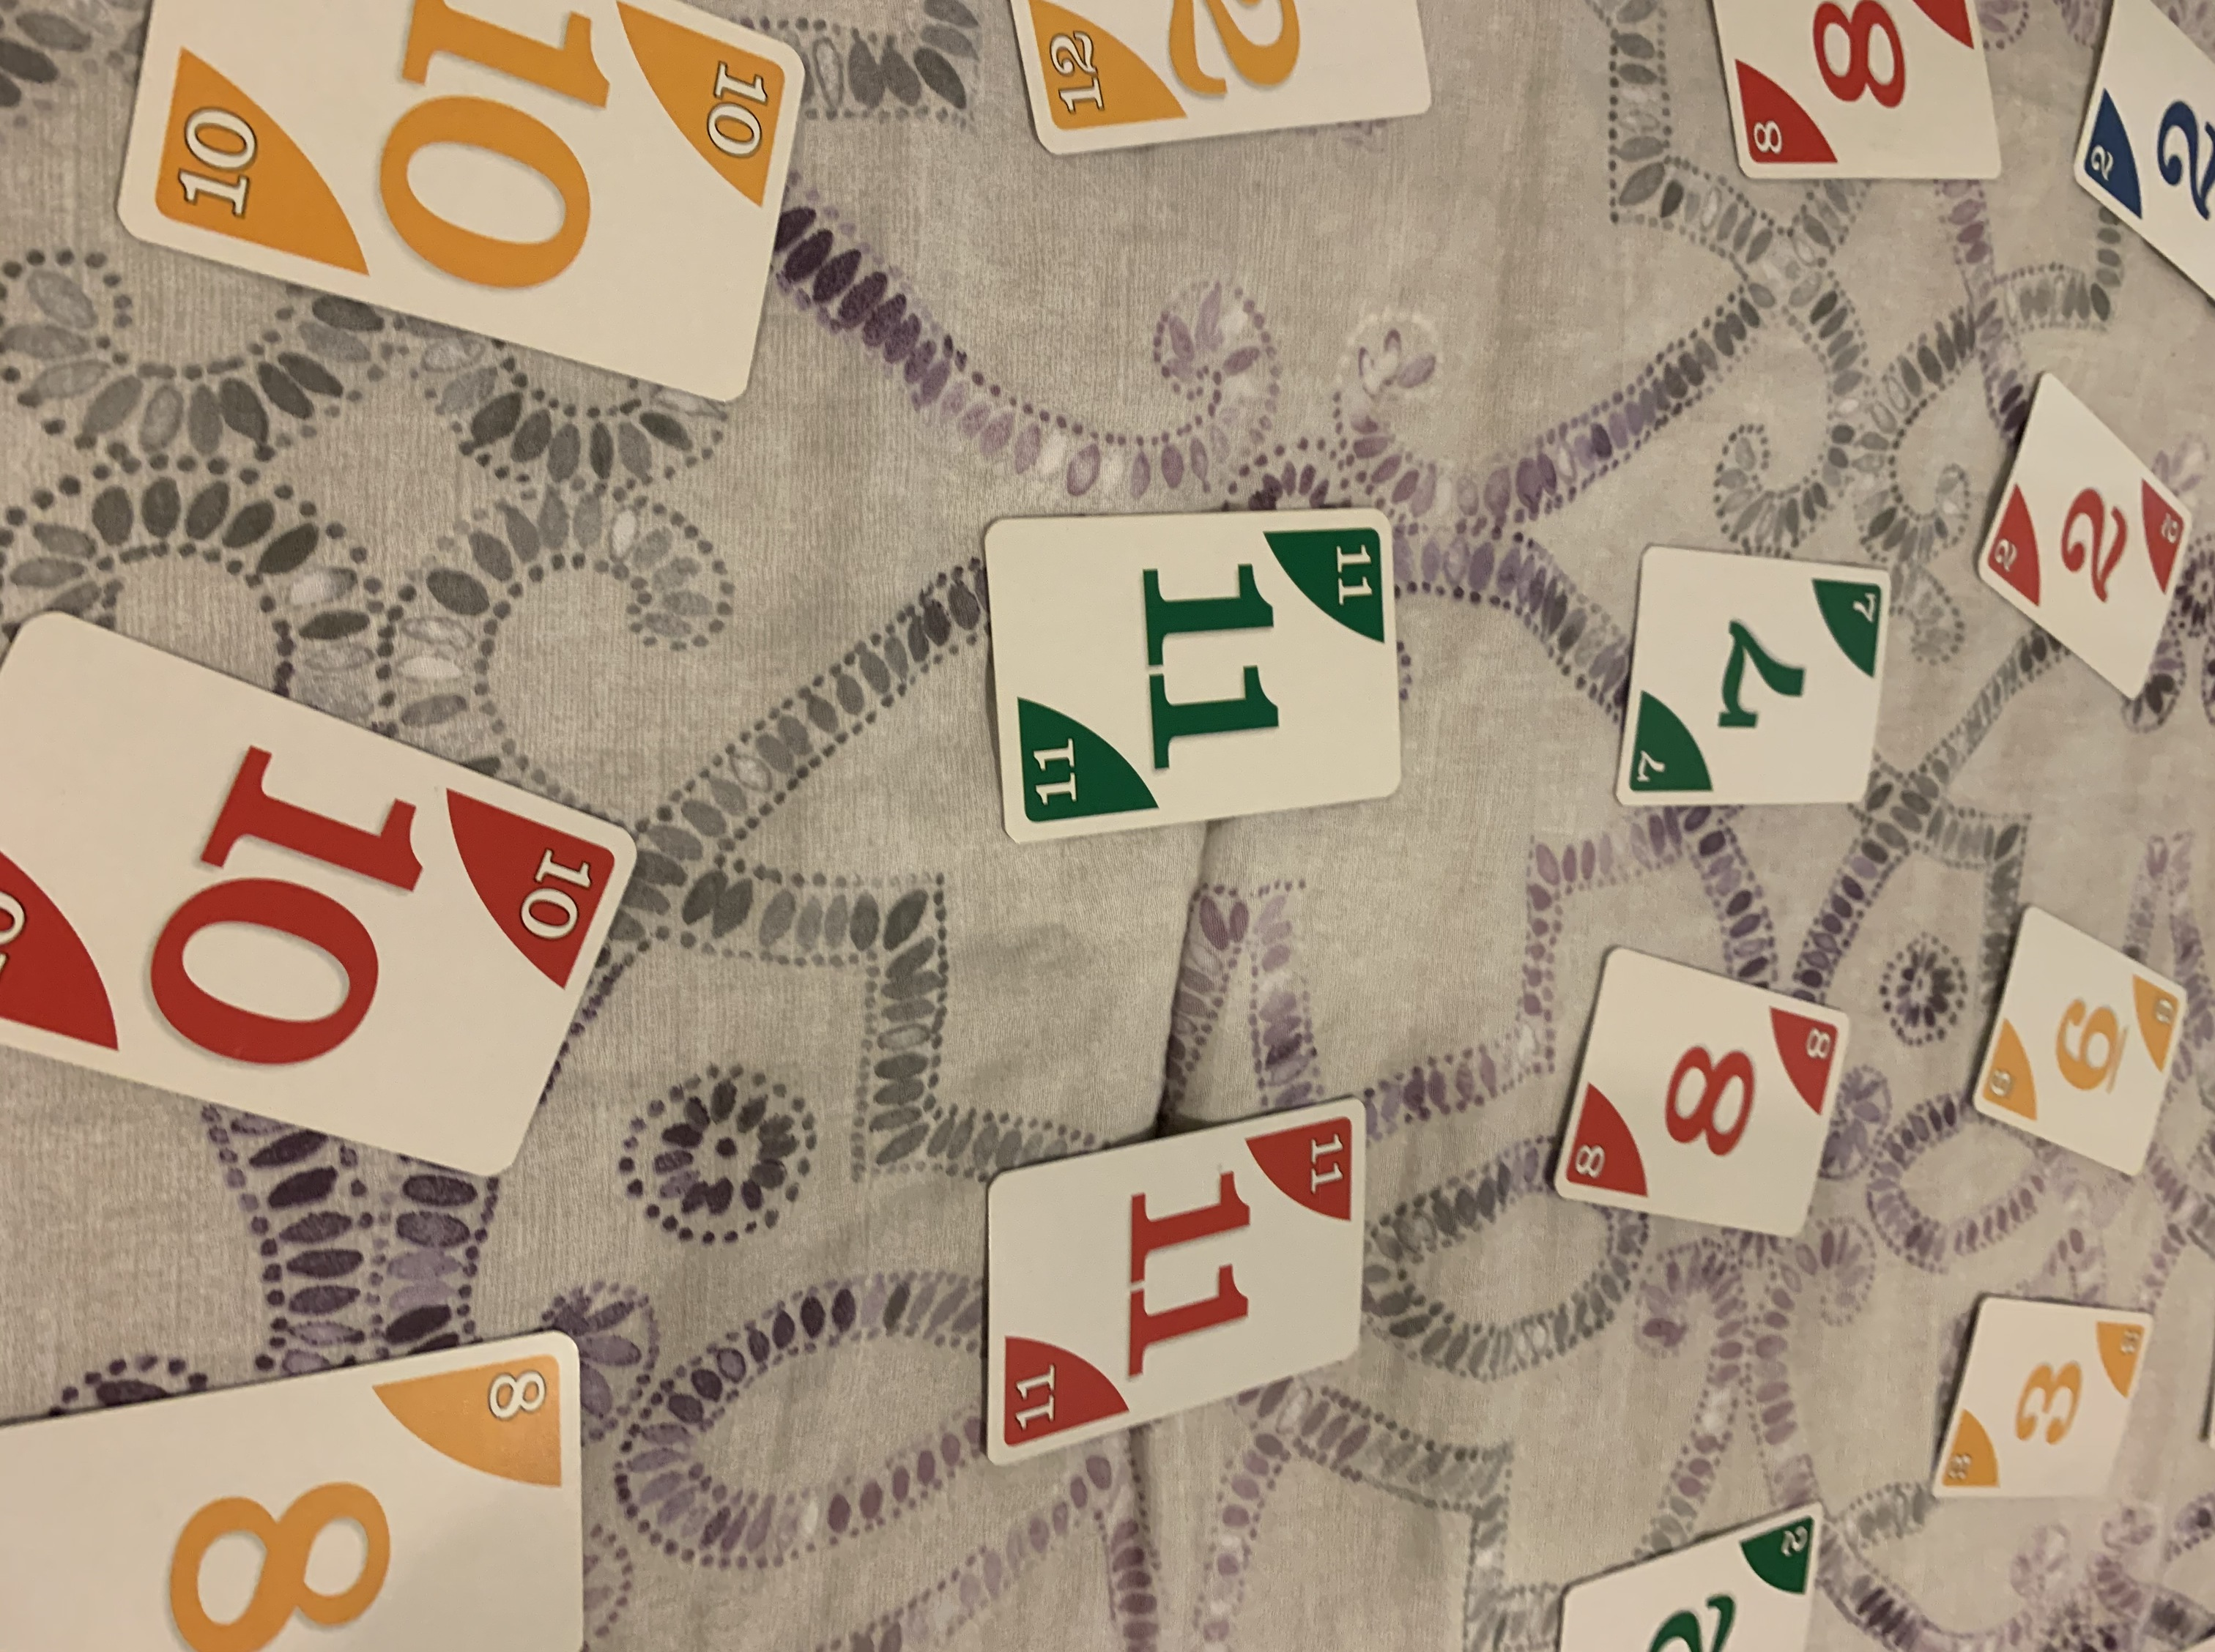eight: (1543, 941, 1852, 1239)
eleven: (976, 1090, 1377, 1468), (976, 498, 1408, 849)
seven: (1607, 541, 1894, 823)
ten: (0, 599, 649, 1190), (115, 0, 809, 411)
three: (1918, 1289, 2153, 1501)
two: (1962, 366, 2196, 708)
